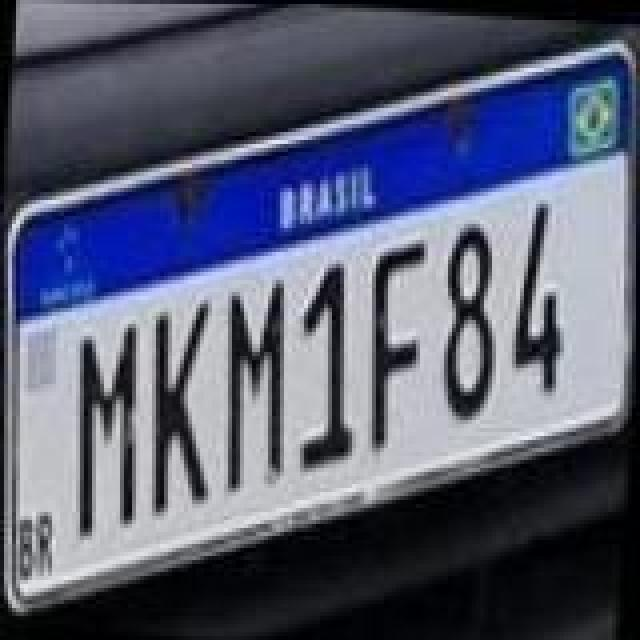1: (292, 256, 372, 472)
4: (506, 194, 574, 394)
8: (432, 216, 504, 420)
F: (358, 232, 434, 456)
K: (138, 298, 222, 522)
M: (64, 318, 152, 542), (218, 276, 302, 500)
